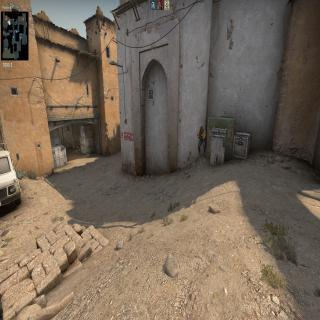T-Head: (200, 125, 204, 134)
